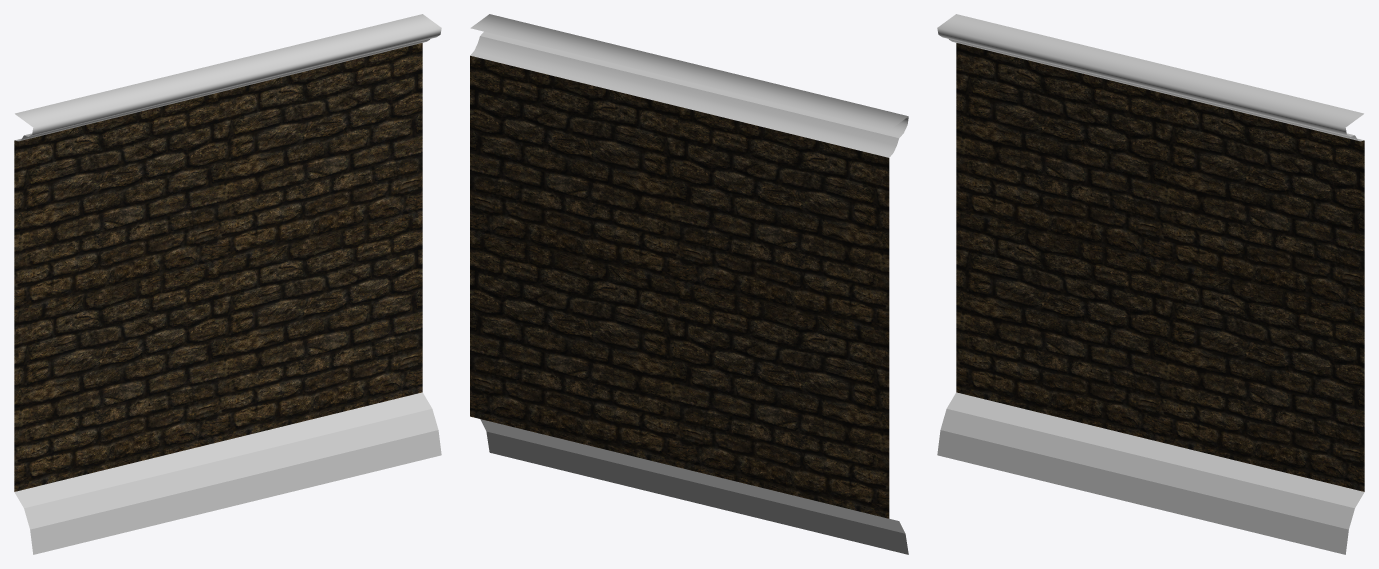
File: cell_wall_worn.dae
3 views of the same model, side by side, from view 1: azimuth 30°, elevation 25°; view 2: azimuth 150°, elevation 25°; view 3: azimuth 330°, elevation 25° (orthographic). The views are drawn at different scales.
Parts seen in each view (by area): view 1: polySurface114, polySurface116; view 2: polySurface114, polySurface116; view 3: polySurface114, polySurface116.
Boxes of the visible parts, bbox=[...] form: polySurface114: bbox=[14, 43, 422, 491]; polySurface116: bbox=[14, 14, 441, 554]; polySurface114: bbox=[470, 55, 889, 518]; polySurface116: bbox=[470, 14, 908, 554]; polySurface114: bbox=[956, 43, 1364, 491]; polySurface116: bbox=[937, 14, 1364, 554].
Size of what is drawn, in the model's own units: 4 by 4 by 0.3219.
